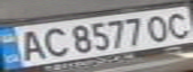5: (87, 19, 112, 52)
7: (106, 16, 130, 48), (124, 15, 148, 46)
8: (66, 21, 93, 55)
A: (12, 27, 48, 62)
C: (36, 25, 72, 58), (160, 8, 193, 41)
O: (142, 11, 175, 43)
